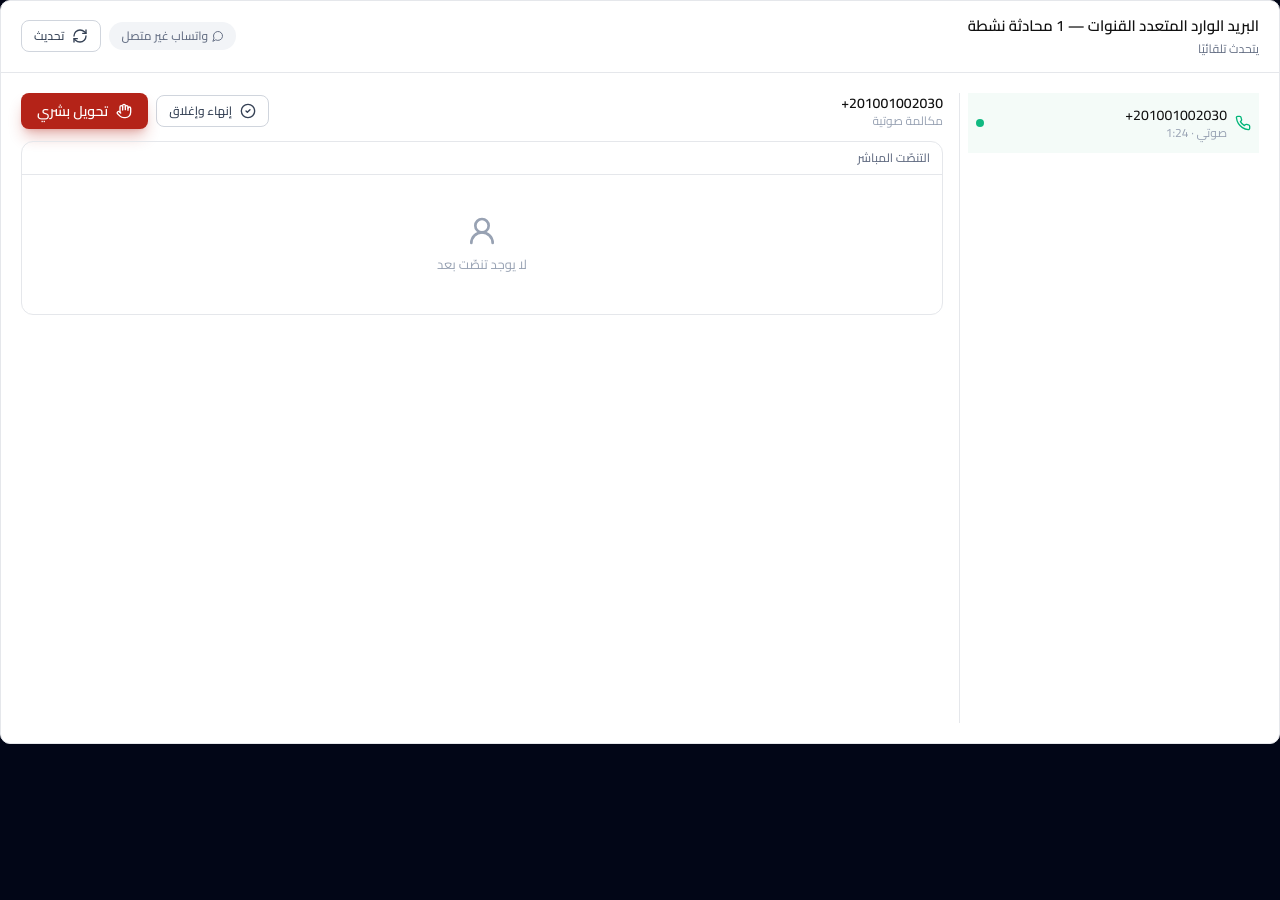
Test: OmnichannelLiveInbox › زر Human Takeover الأحمر يفتح نافذة التأكيد ثم يبثّ takeover.request ويوقف الـ AI
Expected: the 2nd text "+201001002030" is shown, [1125,104,1227,124]
What coordinates should you click on to do the following:
click the button "تحويل بشري"
I would click on:
 (85, 110)
Its box is [21,92,148,128].
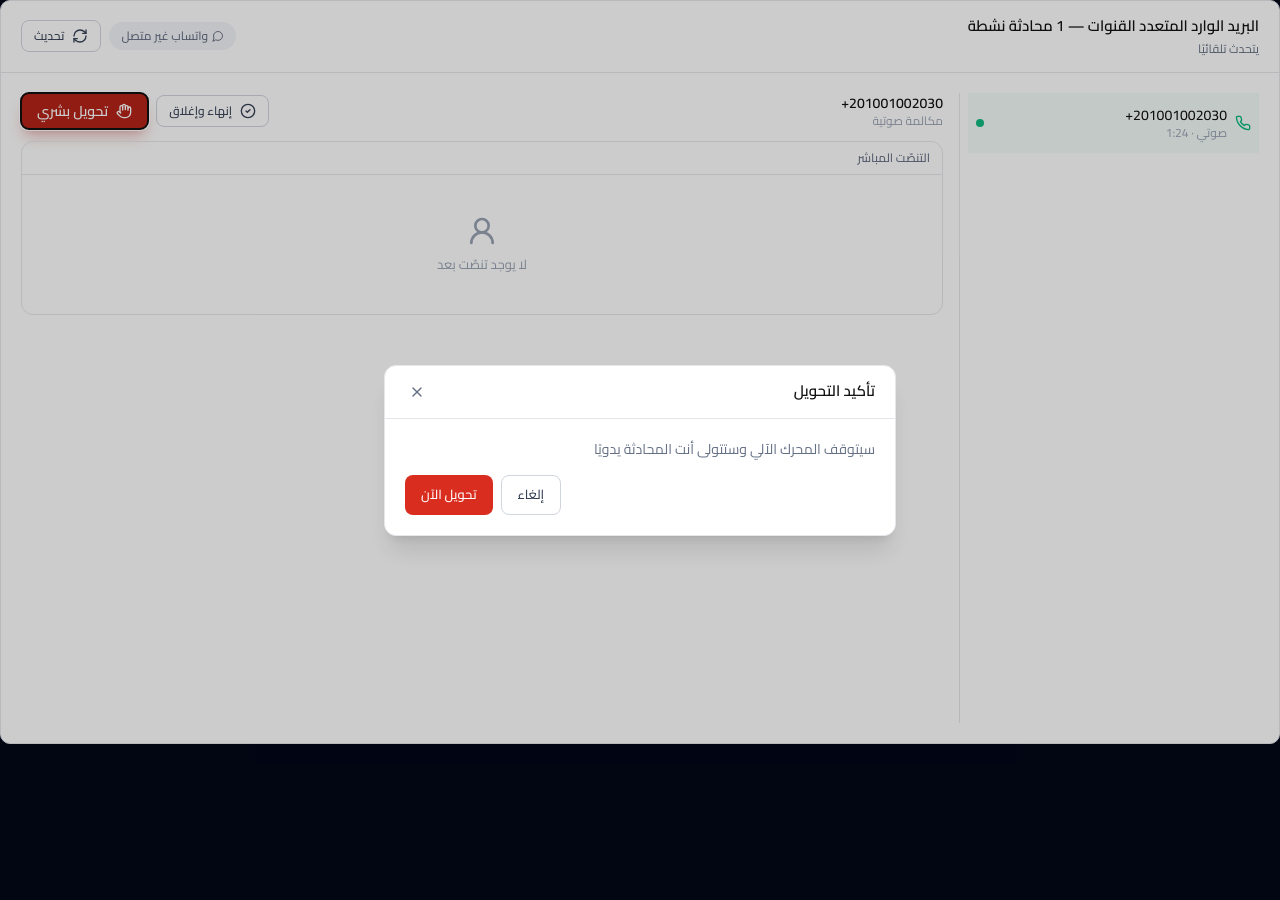
Result: the heading "تأكيد التحويل" is shown at [794,380,875,403]
What coordinates should you click on to do the following:
click the button "تحويل الآن"
I would click on:
 (449, 494)
Its box is [405,474,492,514].
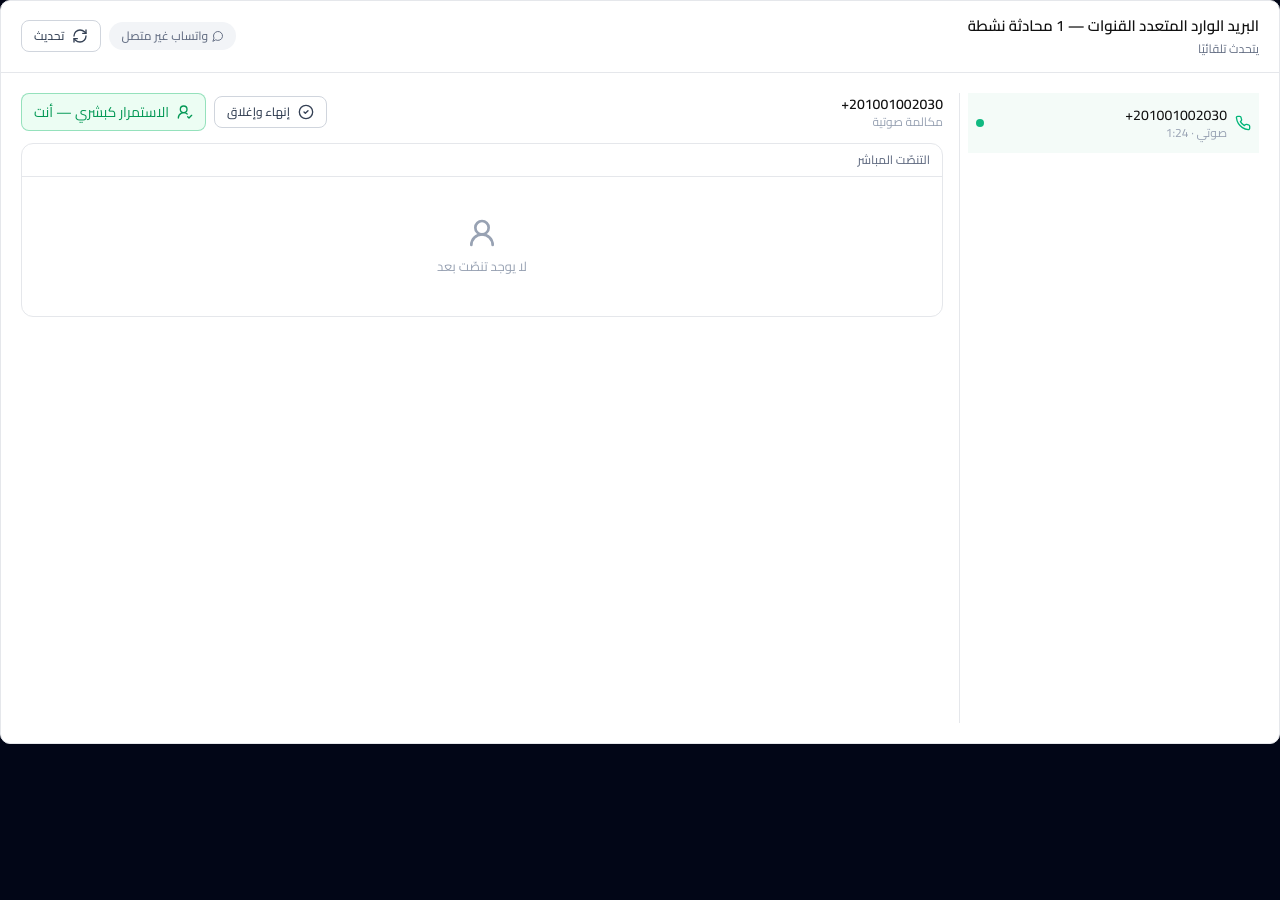
Result: the text "الاستمرار كبشري — أنت" is shown at [34,102,169,122]
